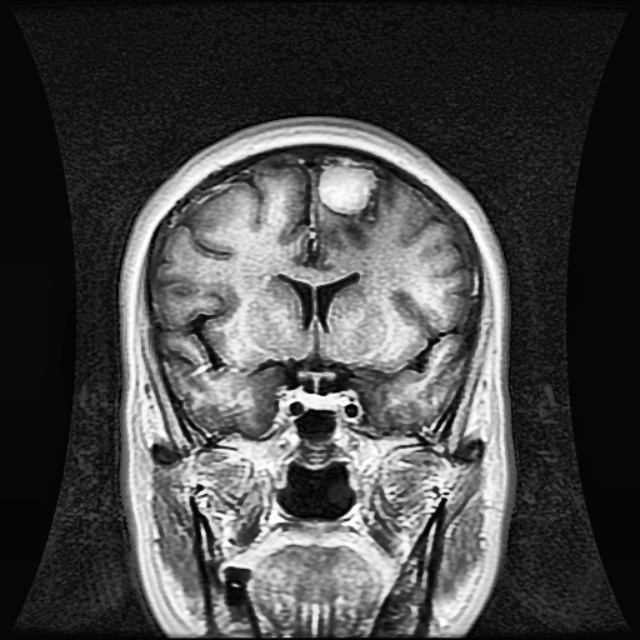Glioma: (320, 155, 377, 213)
